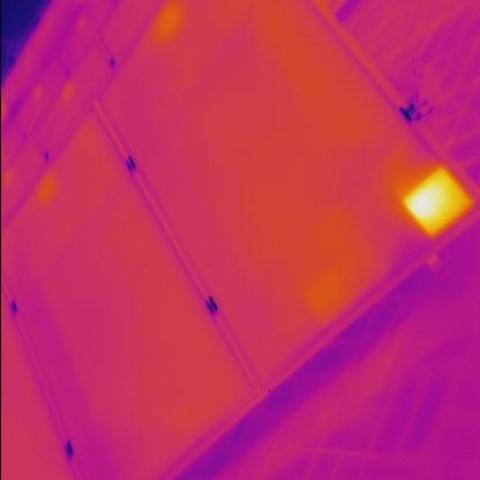fault: (406, 165, 458, 232)
